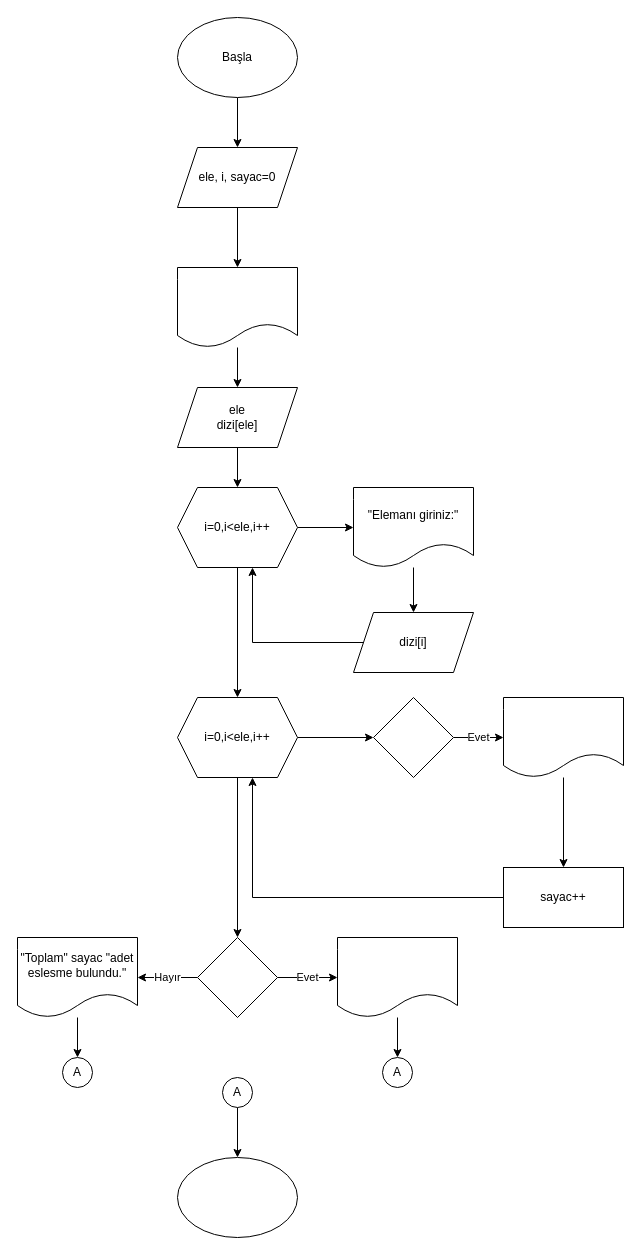
This 641x1255 diagram has some shape labels left out. The centre of each missing label's shape, as x and y in pixels:
"Dizi kaç elemanlı olacak:": point 237,307
"Hicbir eleman adresi ile ayni degil.": point 397,977
"Sayilar uyusuyor"i, dizi[i]: point 563,737
Bitir: point 237,1197
dizi[i]=i: point 413,737
sayac=0: point 237,977
